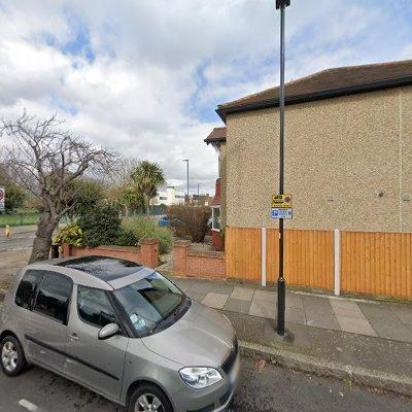stationary-car-onstreet: (0, 254, 246, 412)
